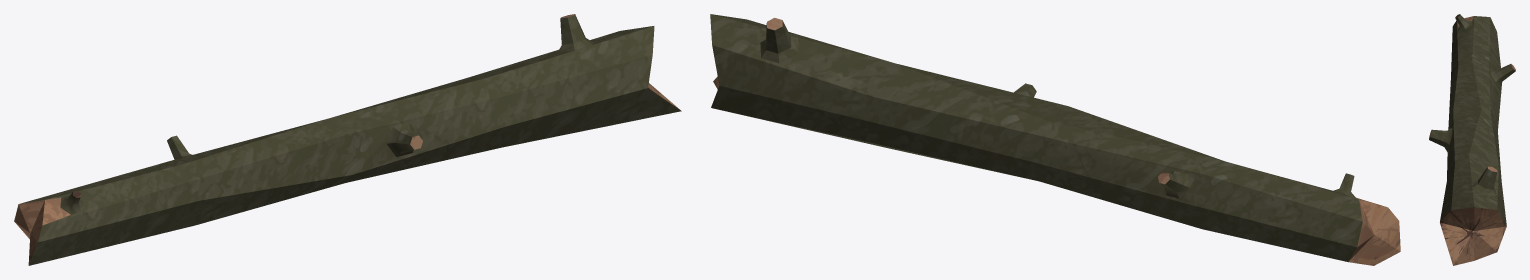
File: TreeStub_5.fbx
3 renders of one model, left to right at view 1: azimuth 30°, elevation 25°; view 2: azimuth 150°, elevation 25°; view 3: azimuth 270°, elevation 25°, orthographic. The views are drawn at different scales.
Parts seen in each view (by area): view 1: TreeStub_5; view 2: TreeStub_5; view 3: TreeStub_5.
Boxes of the visible parts, box(x1,y1,x2,y2) form: TreeStub_5: box(14, 14, 681, 265); TreeStub_5: box(710, 14, 1400, 265); TreeStub_5: box(1429, 14, 1515, 265).
Bounding box in the file's own units: 756 × 117 × 124.
